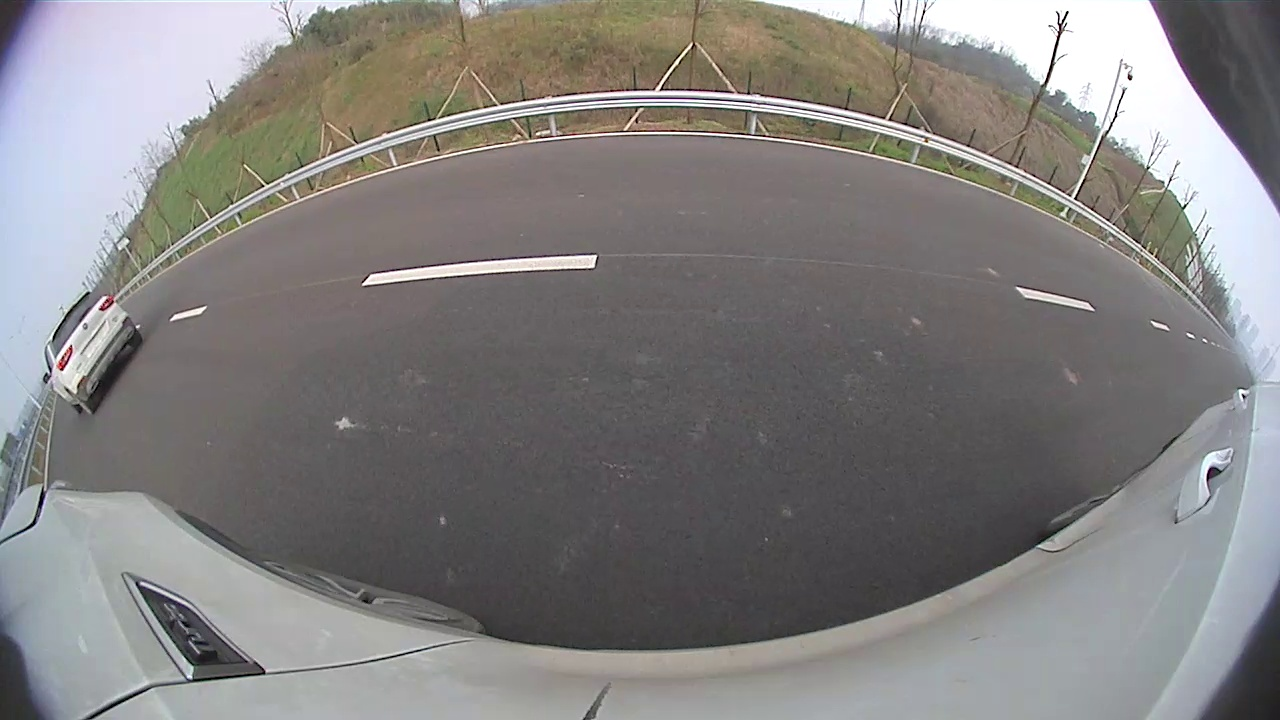car: (967, 160, 1186, 385)
rear: (1071, 334, 1126, 387)
